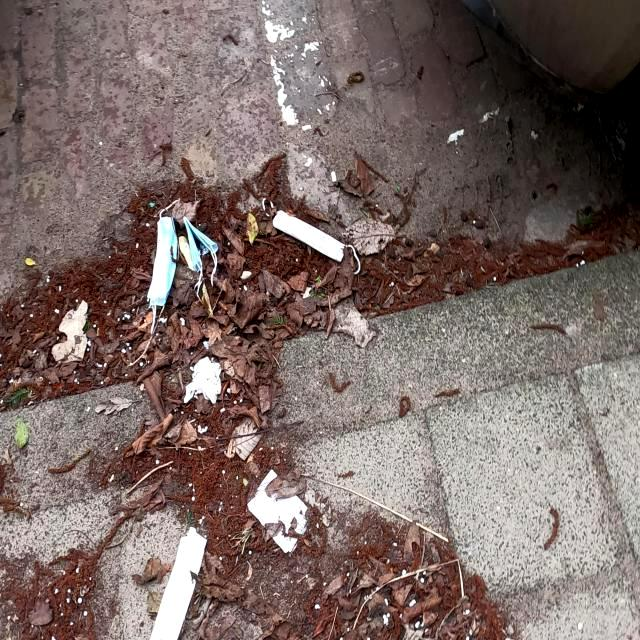Mask: (261, 195, 361, 275), (145, 197, 179, 335), (183, 214, 219, 306)
Paper: (149, 524, 207, 640), (246, 468, 308, 556), (51, 297, 89, 363), (329, 296, 377, 348), (182, 354, 222, 406)
